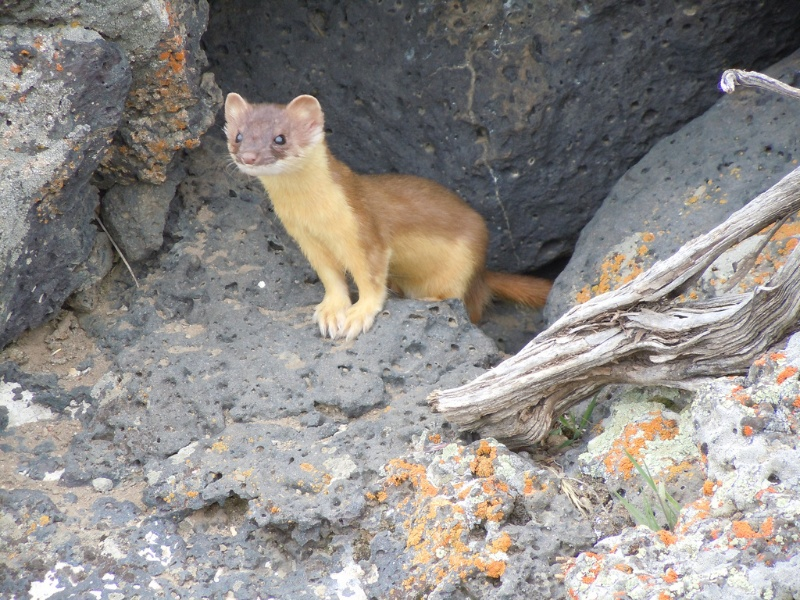minkish: (219, 85, 557, 342)
